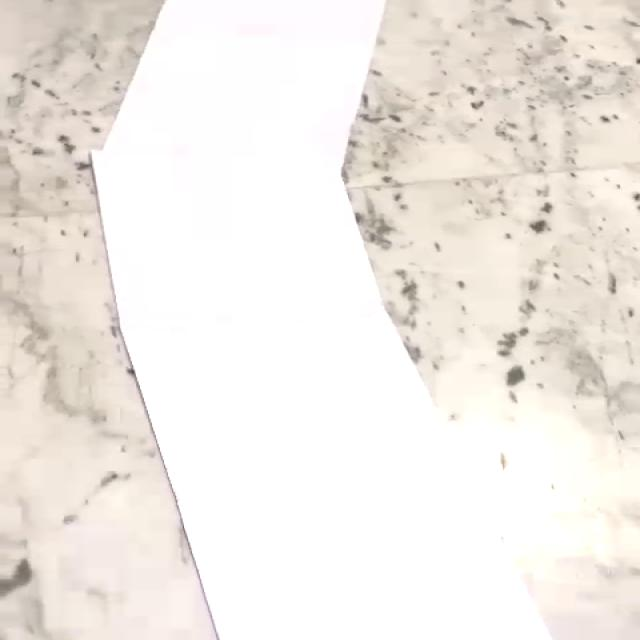road: (91, 0, 553, 640)
